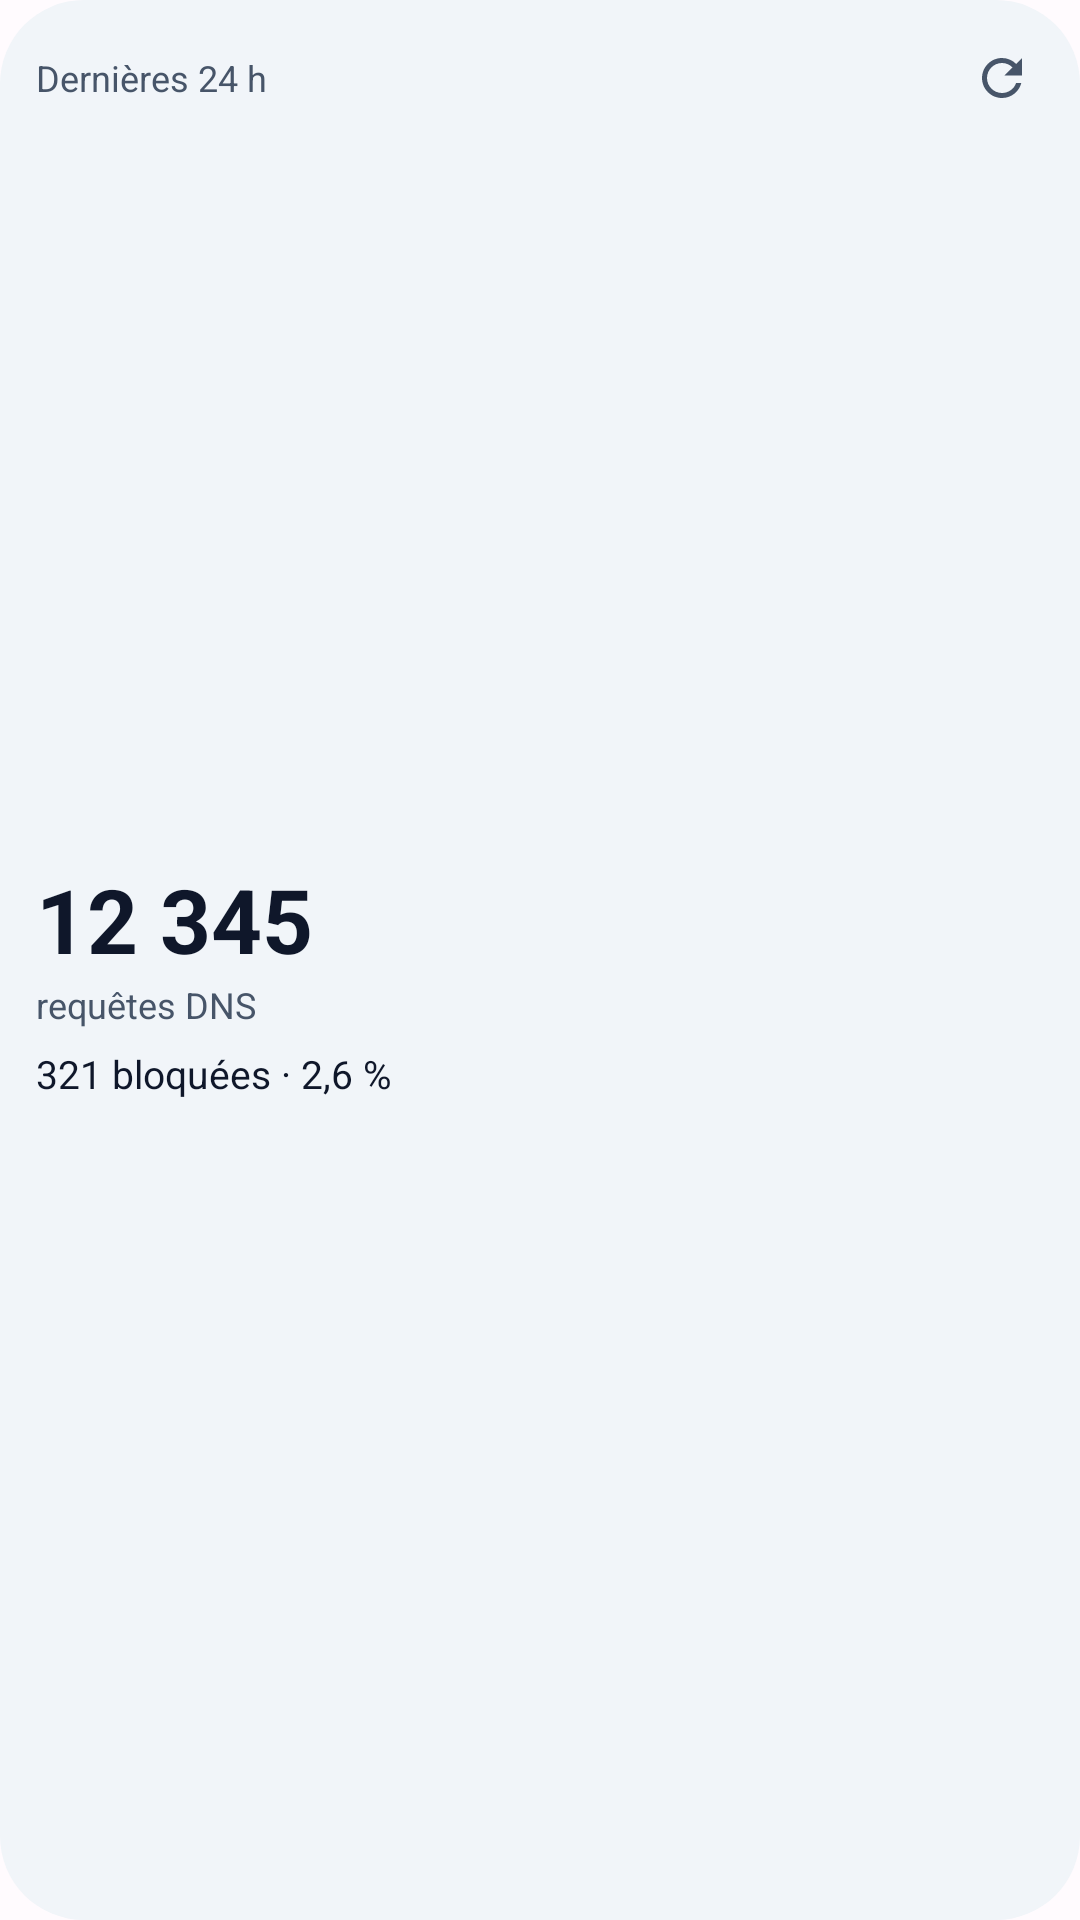

Icons on this 1080px×1920px Android screen, each with the point to tap as point (x, y):
Actualiser les statistiques: point (1002, 78)
